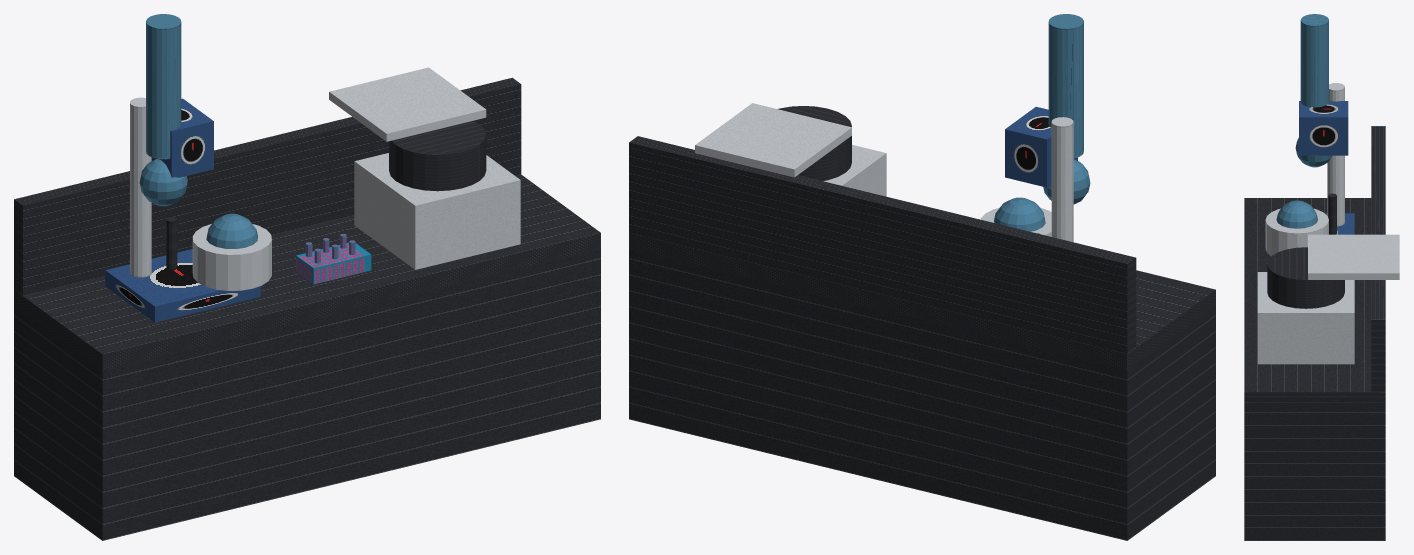
Rendered from prop_centrifuge_rotovap.glb.
The picture shows the model from 3 angles, left to right: view 1: azimuth 30°, elevation 25°; view 2: azimuth 150°, elevation 25°; view 3: azimuth 270°, elevation 25°; orthographic projection. The views are drawn at different scales.
Parts seen in each view (by area): view 1: Prop_Centrifuge_Rotovap; view 2: Prop_Centrifuge_Rotovap; view 3: Prop_Centrifuge_Rotovap.
Boxes of the visible parts, x1,y1,x2,y2 form: Prop_Centrifuge_Rotovap: (14,14,600,540); Prop_Centrifuge_Rotovap: (629,14,1215,540); Prop_Centrifuge_Rotovap: (1244,14,1399,540).
Bounding box in the file's own units: 2.6 × 2.3 × 0.88.
Materials: 1 (1 with a texture image).
